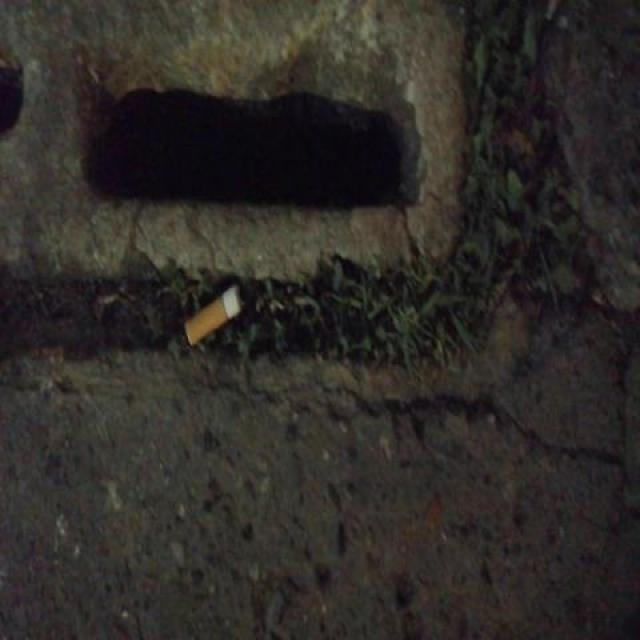non-organic waste: (179, 278, 253, 353)
